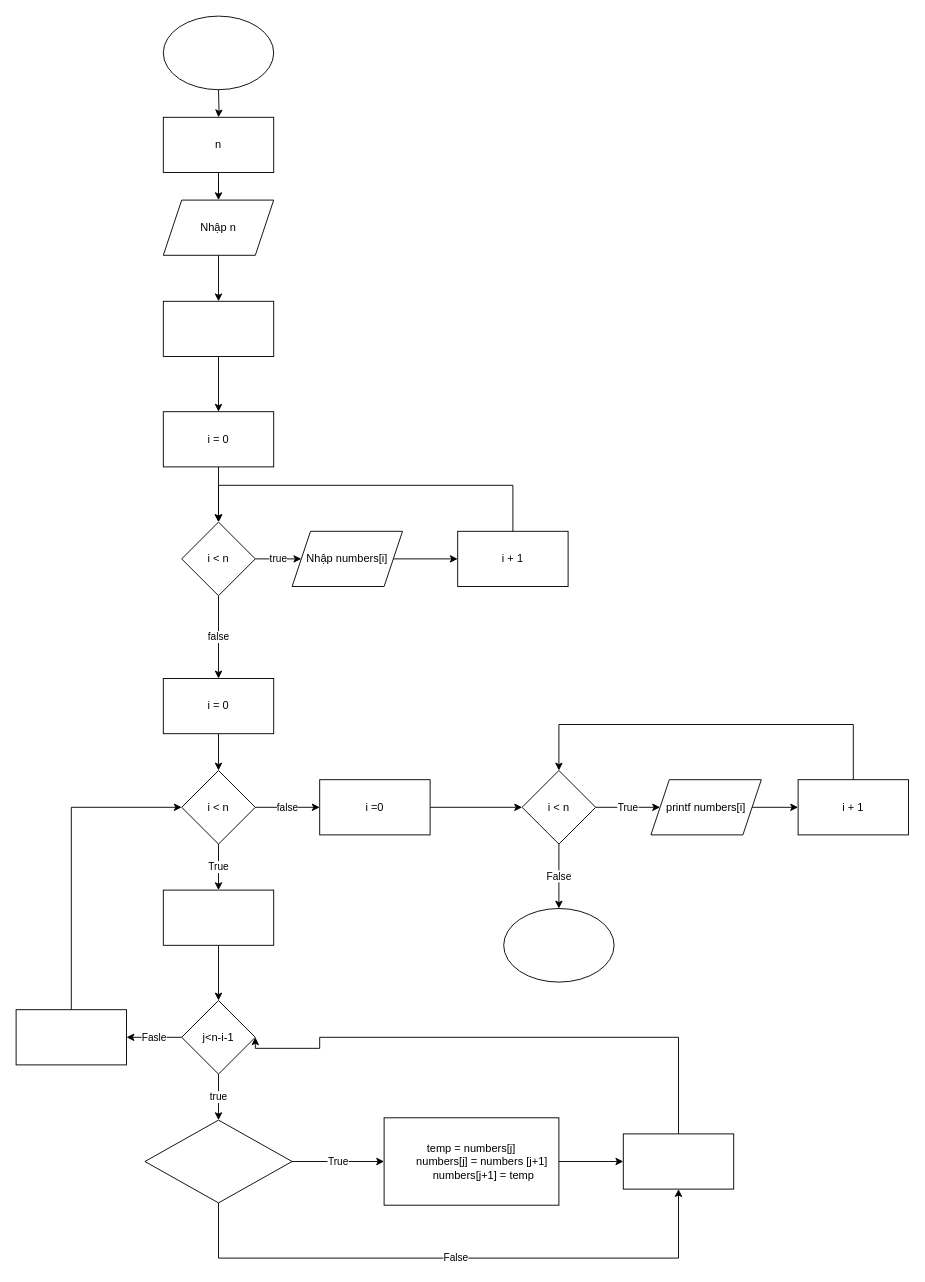
Some shapes in this 925 by 1282 pixel diagram are drawn without their labels. The shapes that lost their labels are listed below. From the top down, each one's centre as x and y in pixels, then its label:
At (218,52): "Start".
At (218,328): "numbers[n]".
At (218,917): "j = 0".
At (558,945): "End".
At (70,1037): "i+1".
At (218,1161): "numbers[j]>numbers[j+1]".
At (678,1161): "j+1".
